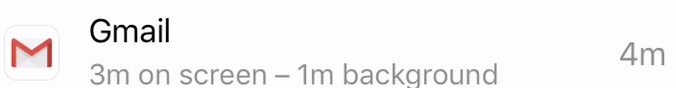name: (83, 5, 184, 52)
time: (86, 59, 137, 87), (294, 60, 339, 88)
